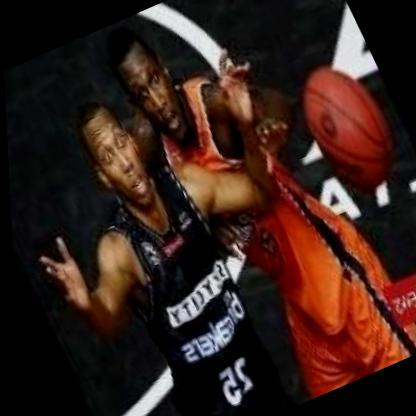basketball: (278, 49, 411, 203)
